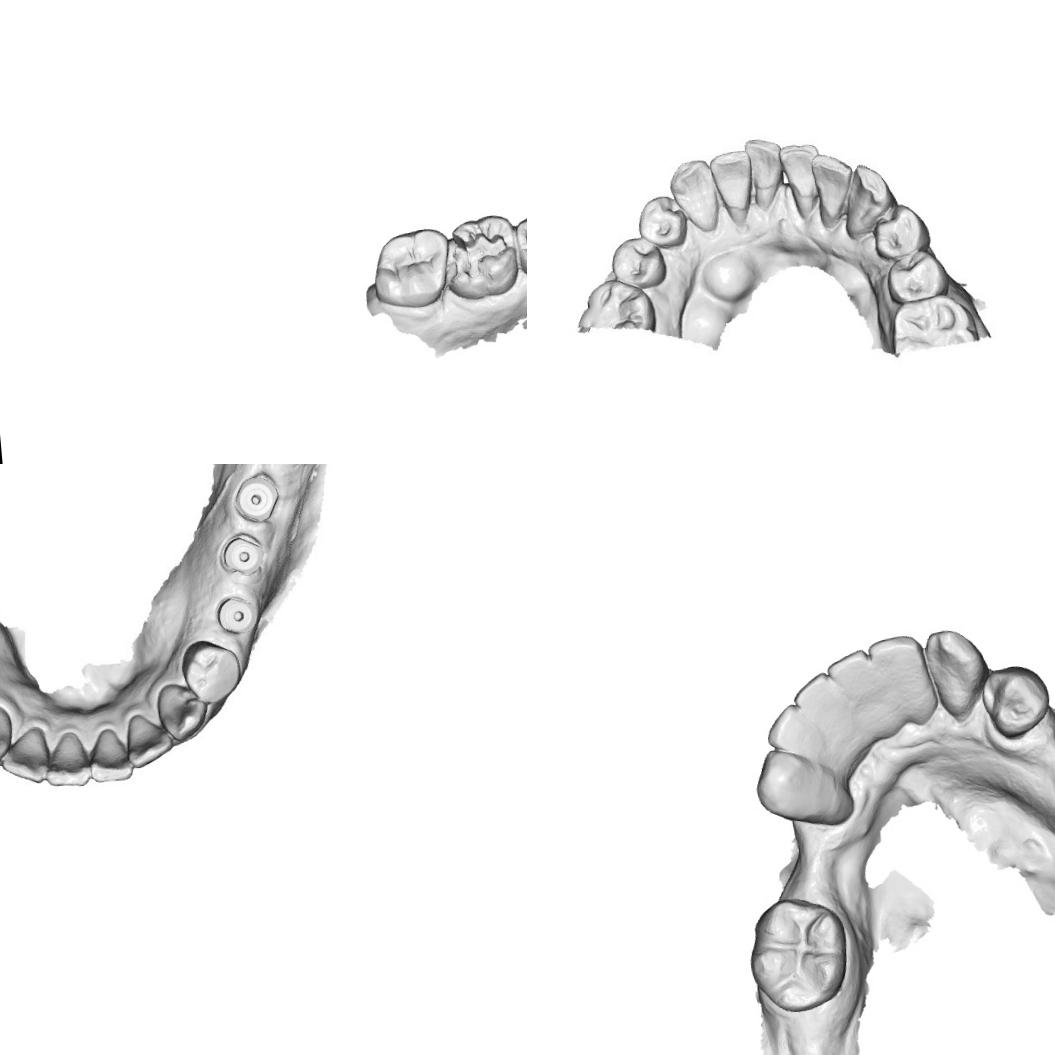canine: (750, 742, 856, 834), (922, 624, 990, 721), (664, 154, 722, 236), (840, 159, 898, 236), (156, 680, 204, 732), (0, 707, 10, 756)
implant: (208, 587, 266, 639), (232, 472, 282, 526), (219, 529, 268, 576)
incisor: (804, 148, 858, 222), (864, 630, 928, 691), (822, 645, 880, 704), (788, 668, 846, 727), (706, 146, 755, 214), (774, 139, 826, 203), (765, 700, 818, 761), (0, 727, 51, 786), (42, 732, 95, 786), (88, 727, 136, 784), (741, 134, 784, 197), (124, 711, 170, 766)
molar: (743, 892, 854, 1017), (368, 224, 453, 311), (440, 212, 521, 300), (884, 292, 977, 353), (572, 275, 660, 336)
premolar: (976, 660, 1053, 739), (870, 200, 936, 263), (182, 636, 242, 704), (606, 231, 669, 292), (884, 251, 949, 304), (634, 192, 690, 250), (511, 207, 527, 284)
